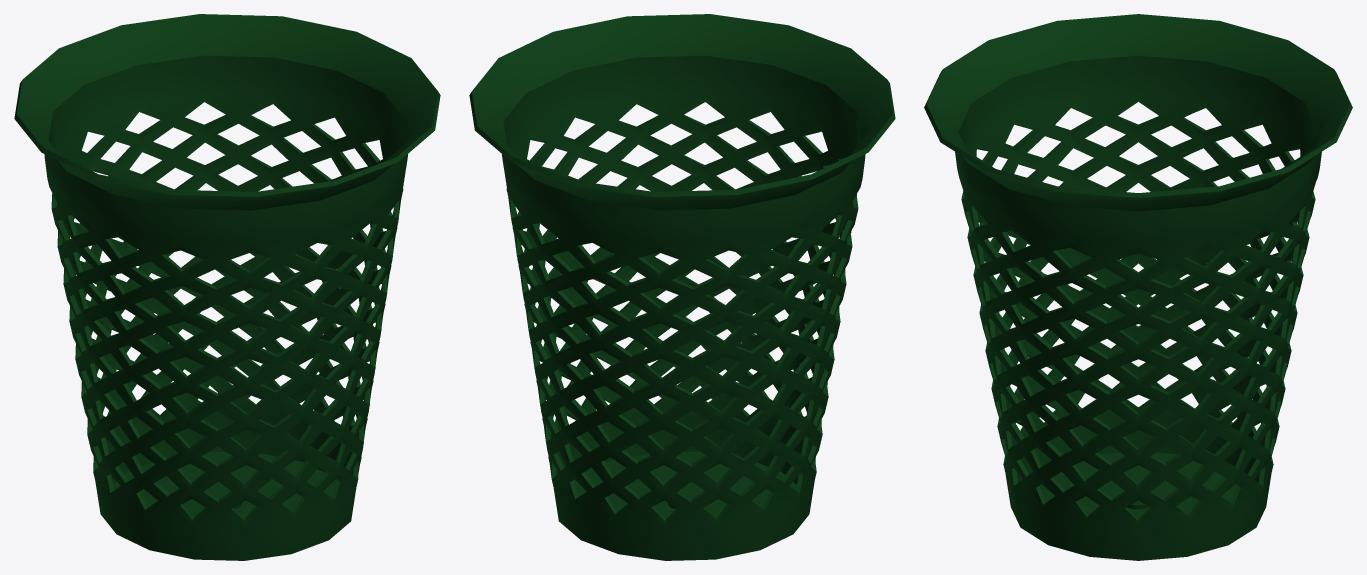
The model's file is Trash Bin2.fbx.
The picture shows the model from 3 angles, left to right: view 1: azimuth 30°, elevation 25°; view 2: azimuth 150°, elevation 25°; view 3: azimuth 270°, elevation 25°; orthographic projection.
Visible parts, largest first — view 1: Cylinder; view 2: Cylinder; view 3: Cylinder.
Boxes of the visible parts, x1,y1,x2,y2 form: Cylinder: (14, 14, 440, 560); Cylinder: (469, 14, 895, 560); Cylinder: (924, 14, 1352, 560).
Size of the model in its own units: 3.61 by 3.75 by 3.61.
